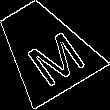M_NW: (9, 15, 81, 83)
